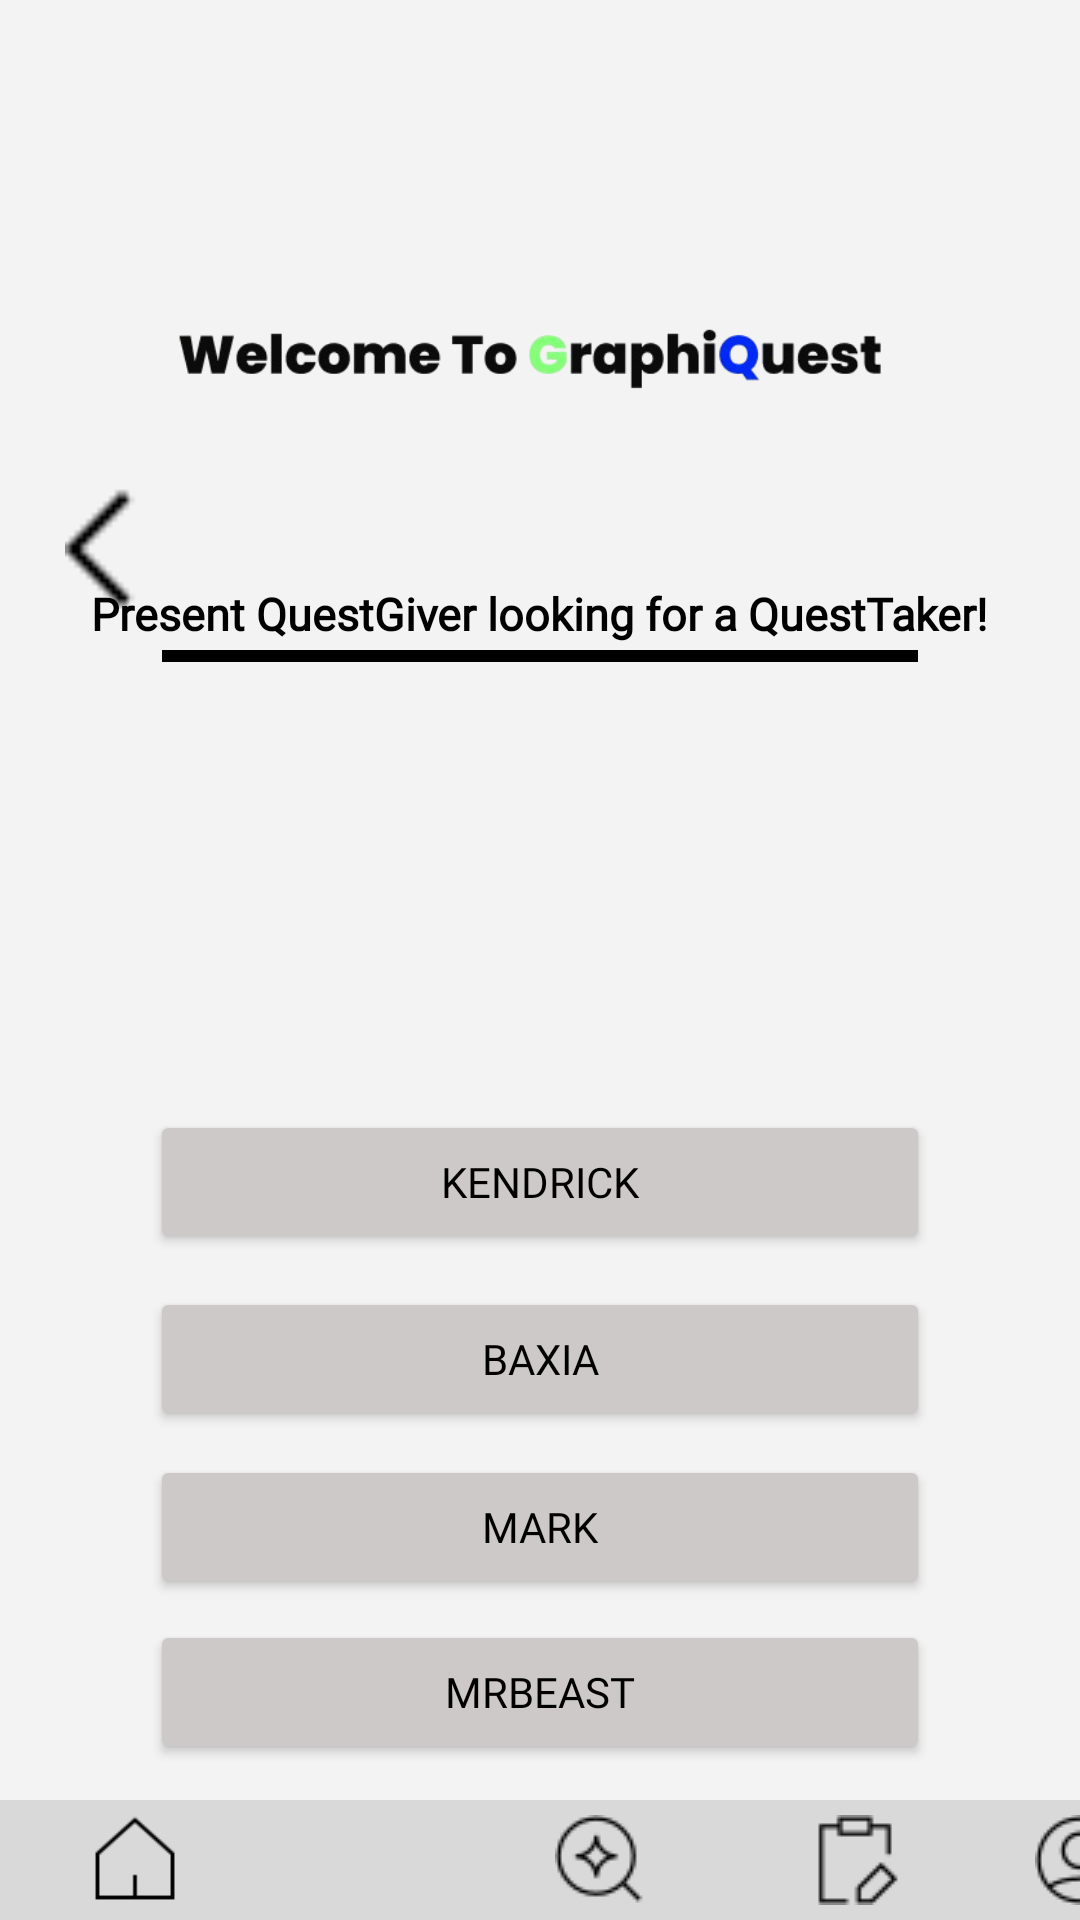

Screen size 1080w x 1920h. Icon name, then its box in pixels as BBox(x1, y1, x2, y2):
backarrow: BBox(65, 490, 205, 618)
homebutton: BBox(95, 1817, 175, 1900)
searchbutton: BBox(555, 1815, 643, 1903)
taskboardbutton: BBox(818, 1815, 898, 1905)
